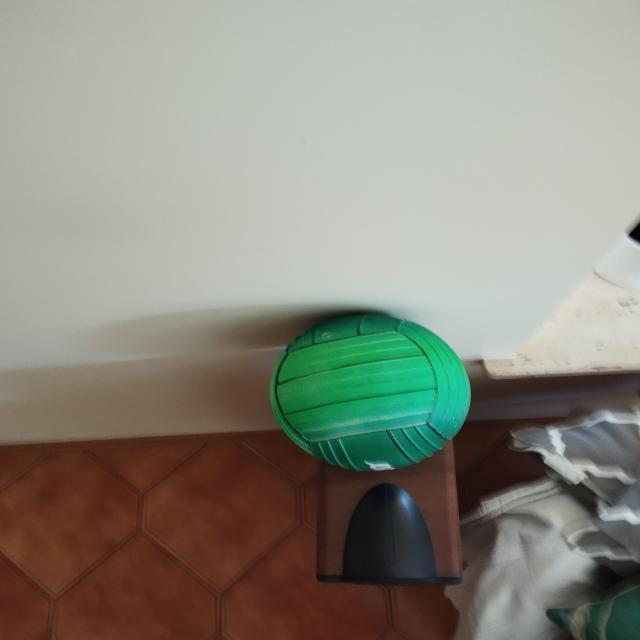zielona: (270, 315, 473, 472)
